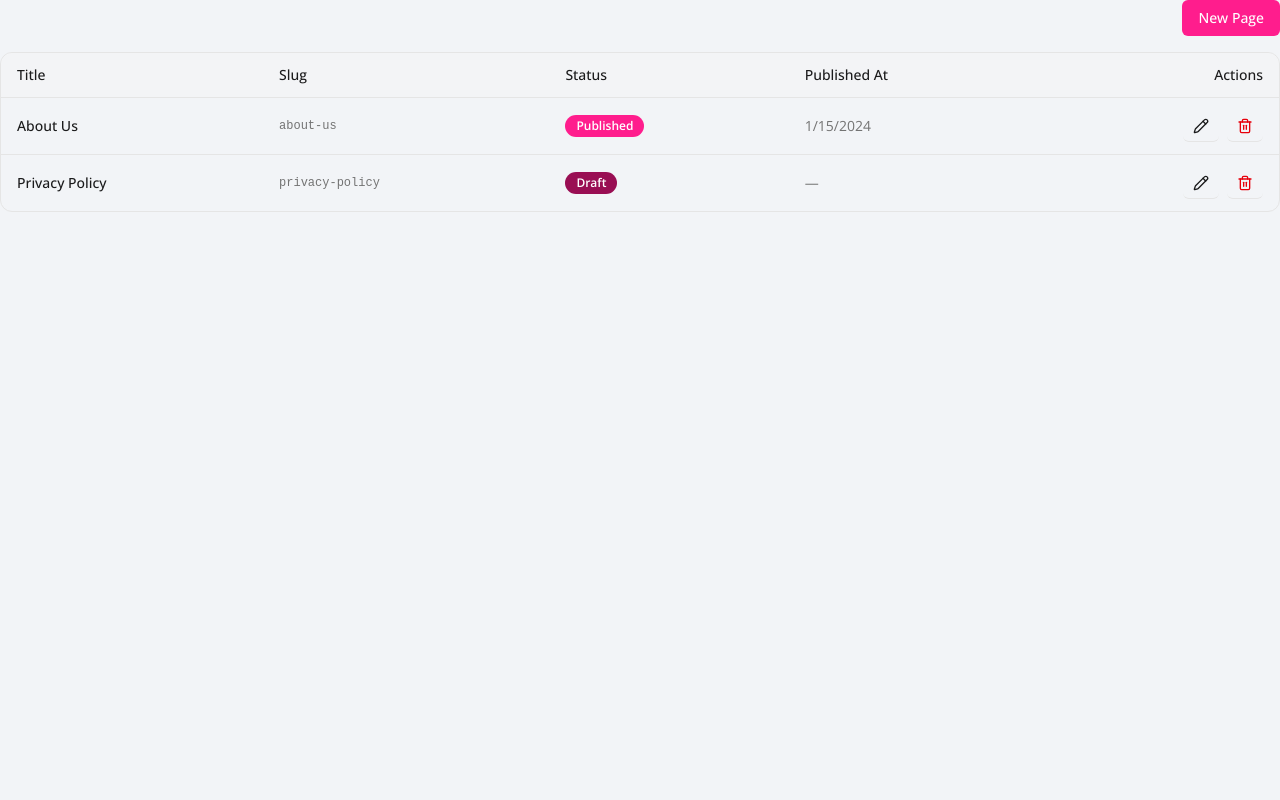
Test case: PageTableSection › "New Page" button opens the create dialog
The width and height of the screenshot is (1280, 800).
Click the button "New Page": click(1231, 18) [1182,0,1279,36]
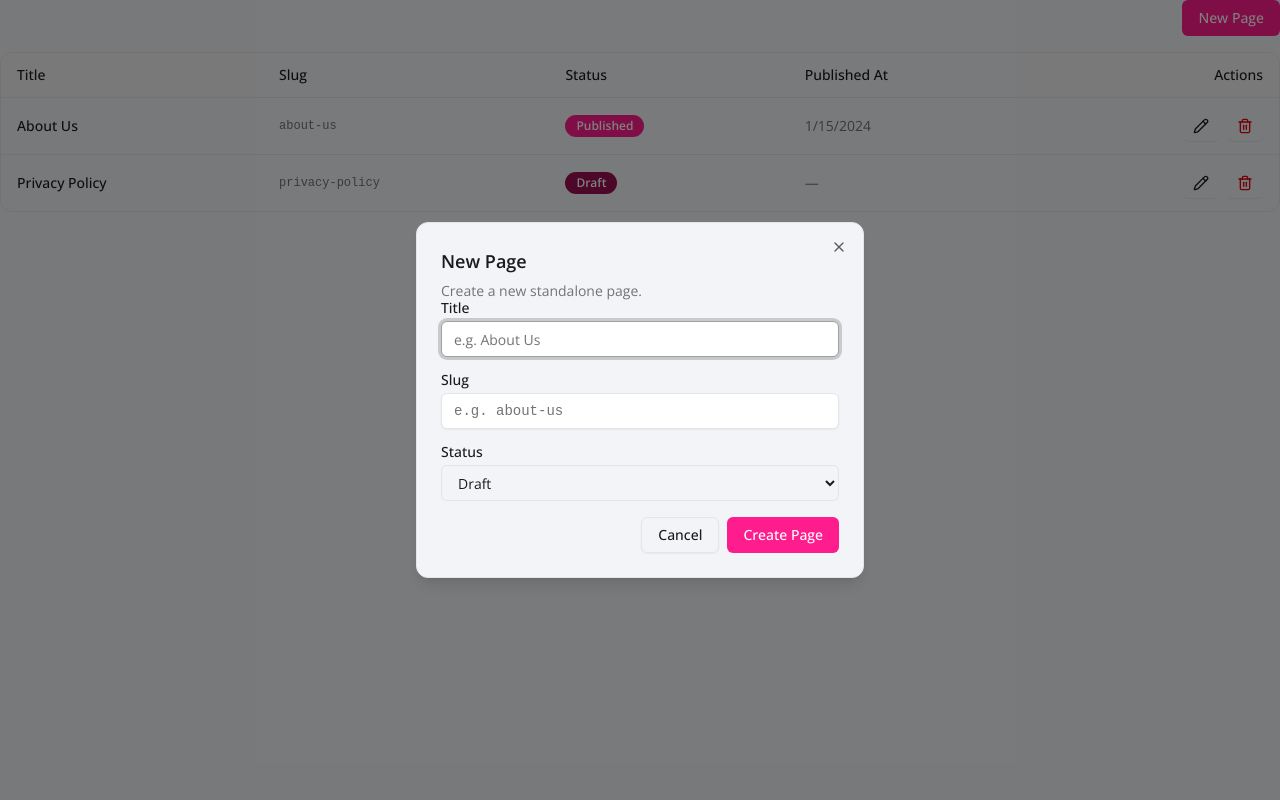
Now the dialog is shown, box [416,222,864,578]
Now the heading "New Page" is shown, box [441,249,527,273]
